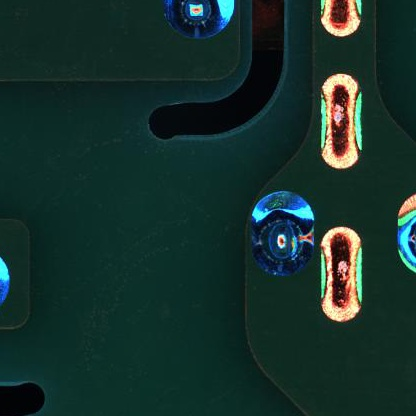spot: (245, 185, 319, 288)
